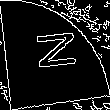N_W: (30, 32, 80, 78)
